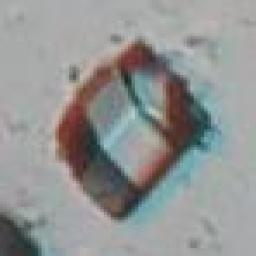crystals: (55, 39, 214, 220)
